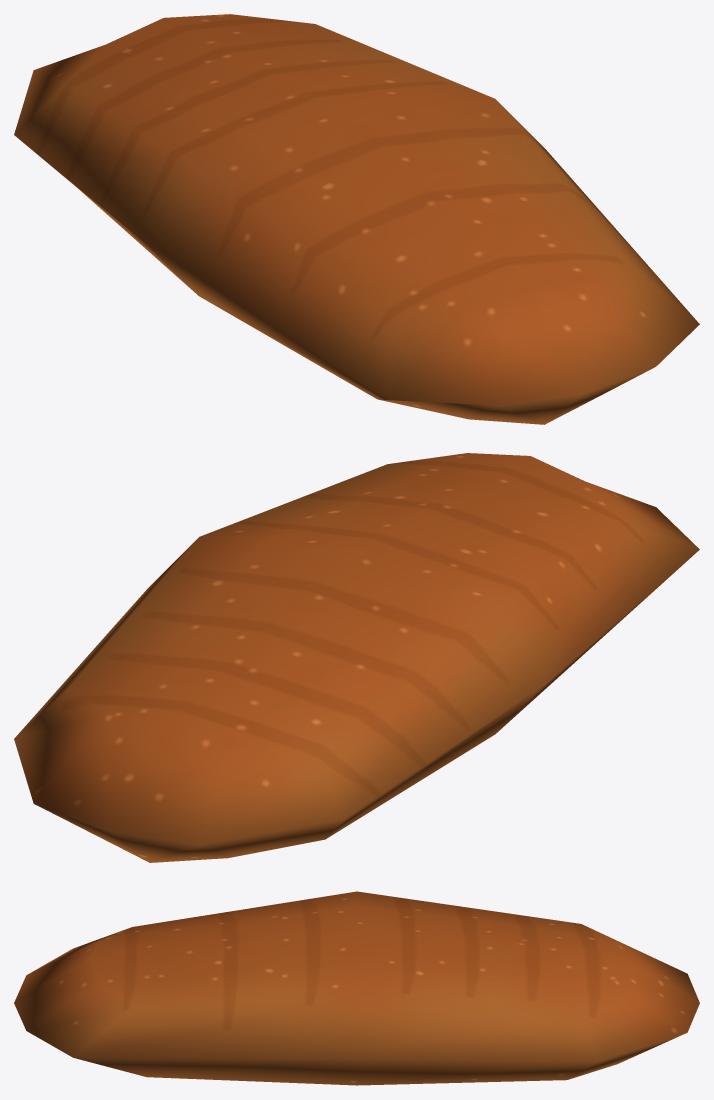
The model's file is Food_Bread.fbx.
3 renders of one model, top to bottom at view 1: azimuth 30°, elevation 25°; view 2: azimuth 150°, elevation 25°; view 3: azimuth 270°, elevation 25°, orthographic. The views are drawn at different scales.
Parts seen in each view (by area): view 1: pCube25; view 2: pCube25; view 3: pCube25.
Boxes of the visible parts, x1,y1,x2,y2 form: pCube25: [14, 14, 699, 424]; pCube25: [14, 453, 699, 862]; pCube25: [14, 891, 699, 1085].
Size of the model in its own units: 11.7 by 4.7 by 24.36.
1 material, 1 textured.
